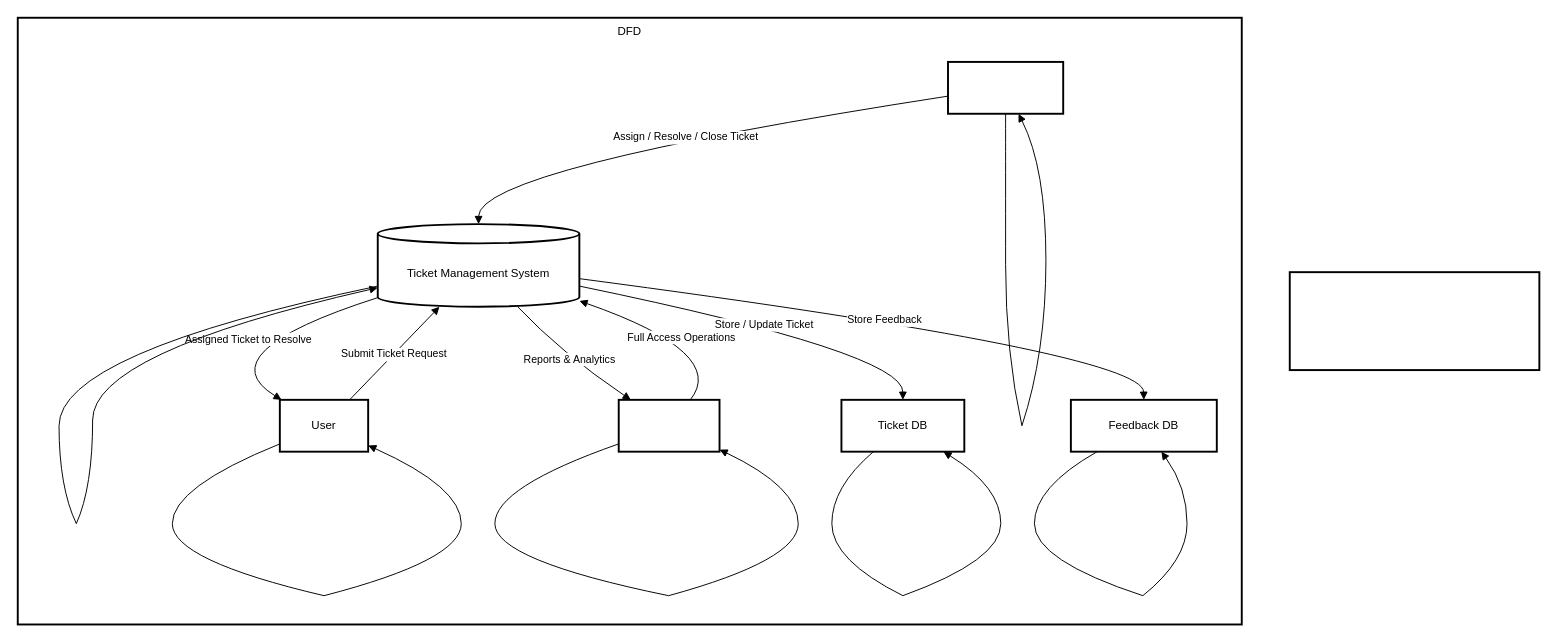
Some shapes in this 1556 by 641 pixel diagram are drawn without their labels. The shapes that lost their labels are listed below. From the top down, each one's centre as x and y in pixels, then its label:
the point at 1005,87: Manager
the point at 1414,321: Diagram Title: Level 0 DFD – Ticket Lifecycle (SMS System)
the point at 668,425: Admin
